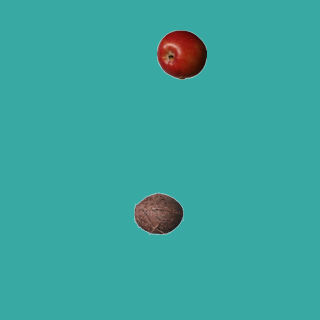Apple Braeburn: (156, 29, 206, 79)
Cocos: (133, 188, 183, 238)
